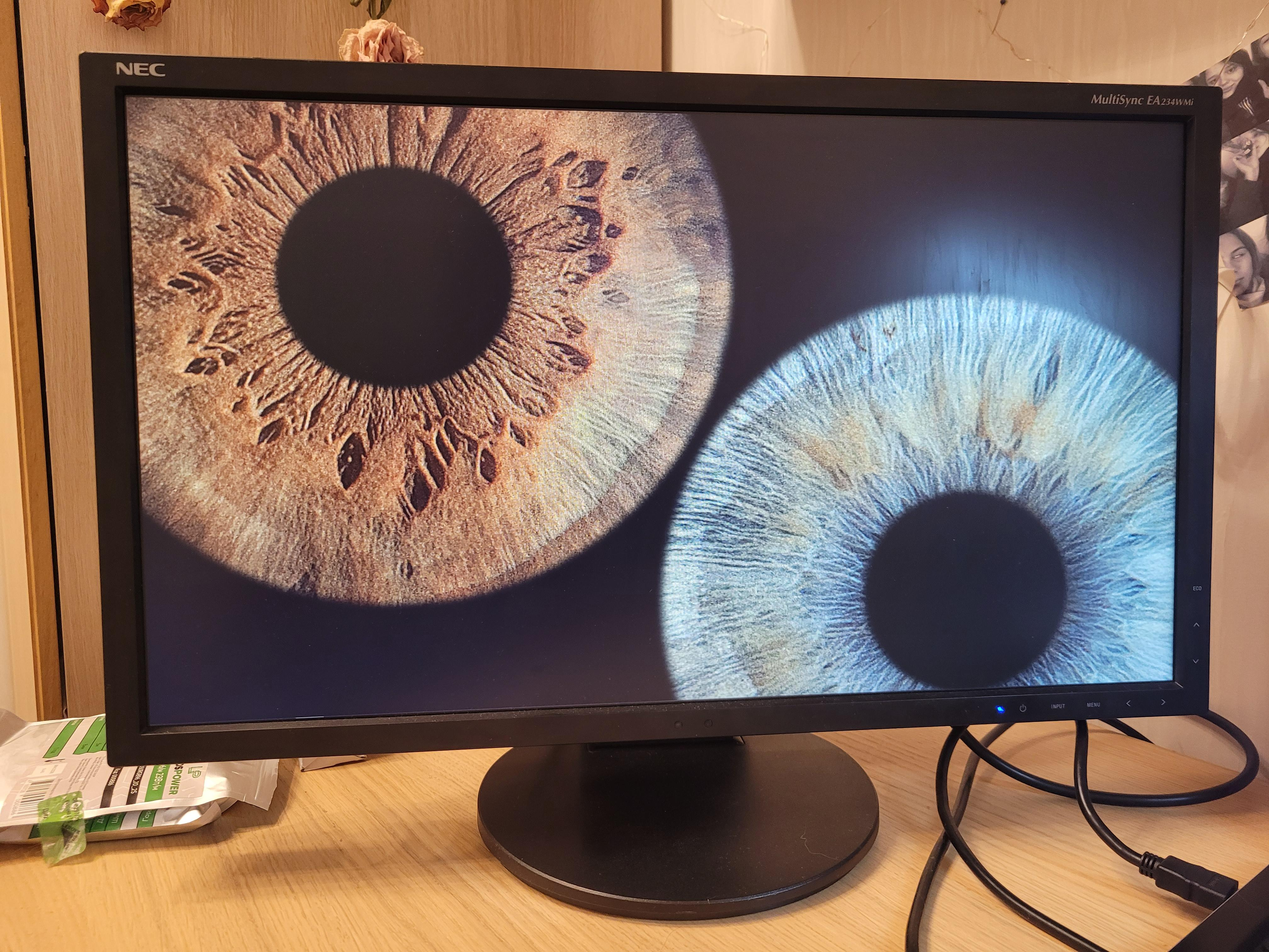monitor: (69, 46, 1232, 771)
